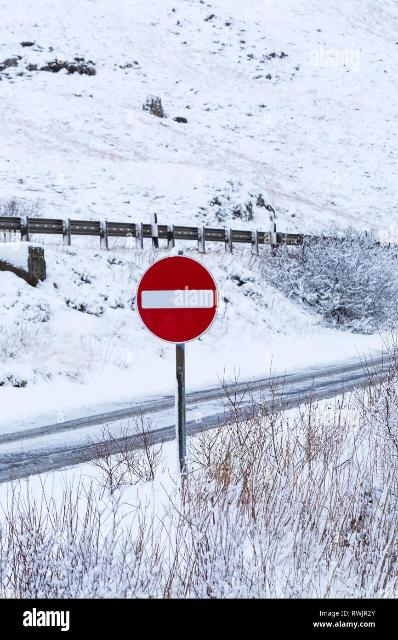B2: (134, 253, 220, 344)
